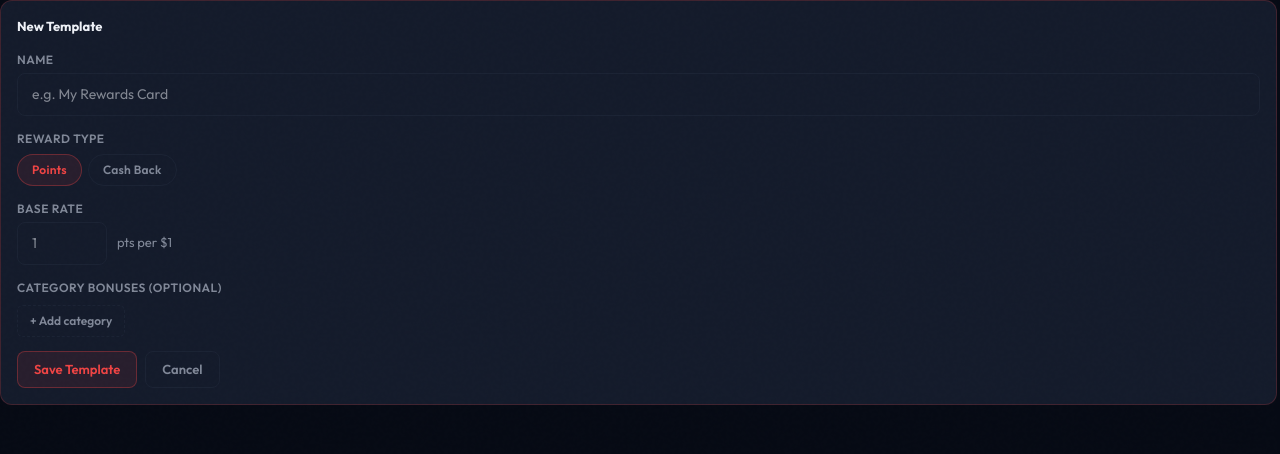
Scenario: CustomProgramForm › explains what is missing instead of saving an incomplete template
Click the button "Save Template" at [77, 369], box x1=17 y1=350 x2=137 y2=388
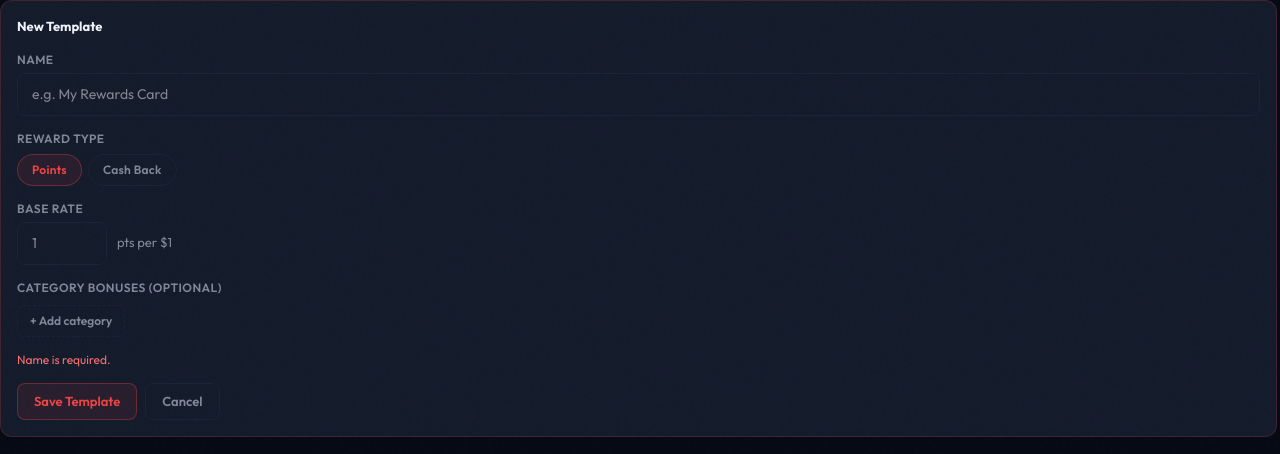
Result: the text "Name is required." is shown at x1=17 y1=352 x2=110 y2=366
